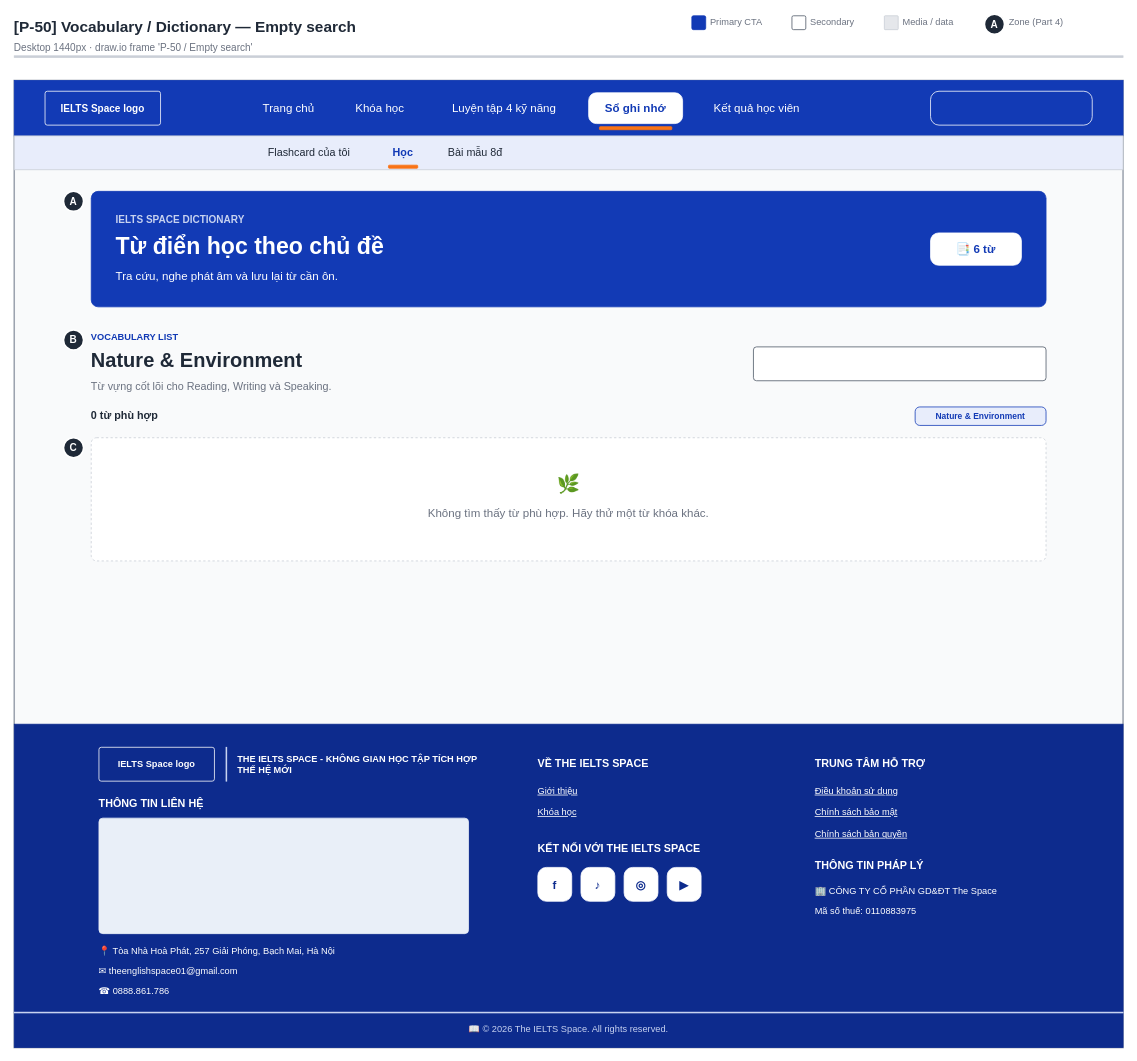
The diagram is 1137 pixels wide and 1061 high, and some of its shapes have lost their labels. Each missing label, with the centre of its shape:
⌕ rainforest: the point at 899,363
◯ Học viên · 30 Points ▾: the point at 1011,107
📍 The IELTS Space Mở trong Maps ↗: the point at 283,875
